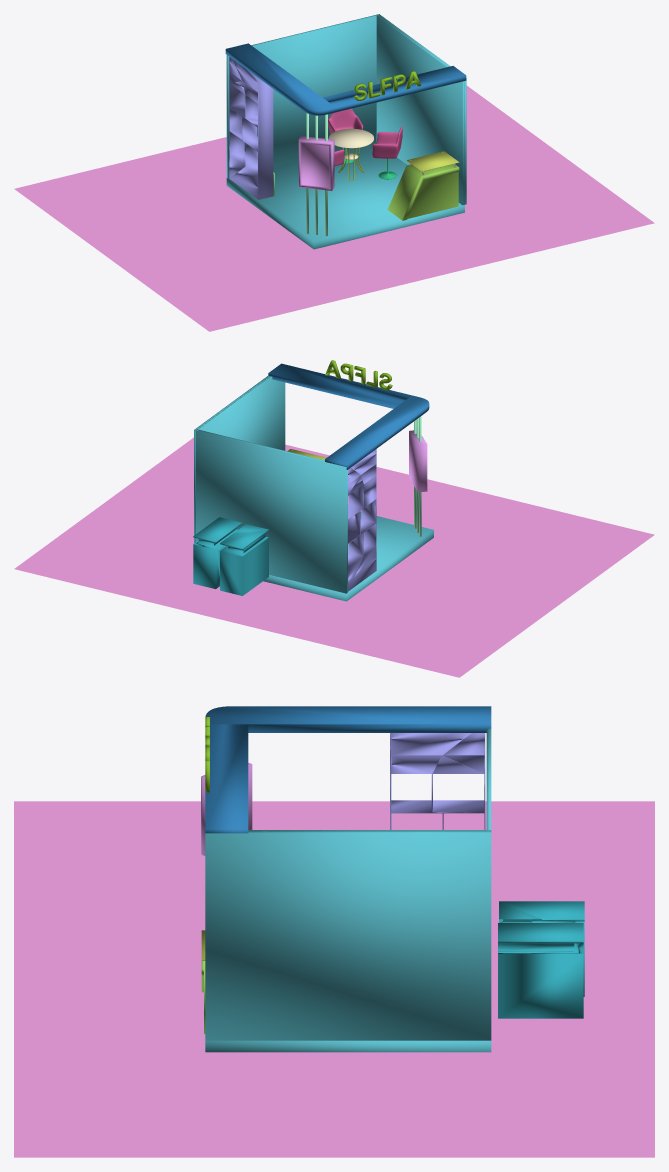
3 views of the same model, one above another, from view 1: azimuth 30°, elevation 25°; view 2: azimuth 150°, elevation 25°; view 3: azimuth 270°, elevation 25° (orthographic). The views are drawn at different scales.
Parts seen in each view (by area): view 1: Object_2, Object_7, Object_11, Object_4, Object_12, Object_17, Object_16, Object_20, Object_8, Object_10, Object_15; view 2: Object_2, Object_7, Object_4, Object_5, Object_11, Object_17, Object_8, Object_10; view 3: Object_2, Object_7, Object_4, Object_5, Object_11, Object_17.
Part boxes in pixels (x1,y1,x2,y2): Object_2: (14,85,654,331); Object_7: (226,14,466,249); Object_11: (229,57,273,199); Object_4: (225,43,466,115); Object_12: (387,164,459,220); Object_17: (298,136,334,190); Object_16: (328,108,402,165); Object_20: (328,128,373,159); Object_8: (354,71,421,100); Object_10: (306,113,327,236); Object_15: (406,151,459,171); Object_2: (14,437,654,677); Object_7: (194,375,433,601); Object_4: (268,363,429,469); Object_5: (193,517,268,595); Object_11: (348,449,376,591); Object_17: (409,430,427,492); Object_8: (325,360,392,390); Object_10: (414,416,421,536); Object_2: (14,801,654,1157); Object_7: (205,728,491,1052); Object_4: (205,706,491,833); Object_5: (498,901,584,1018); Object_11: (390,733,485,829); Object_17: (201,762,252,855).
Size of the model in its own units: 354 by 120 by 269.
